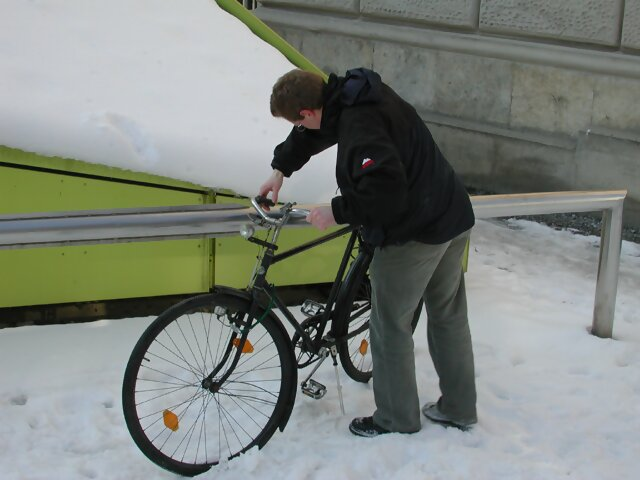person: (252, 62, 503, 440)
